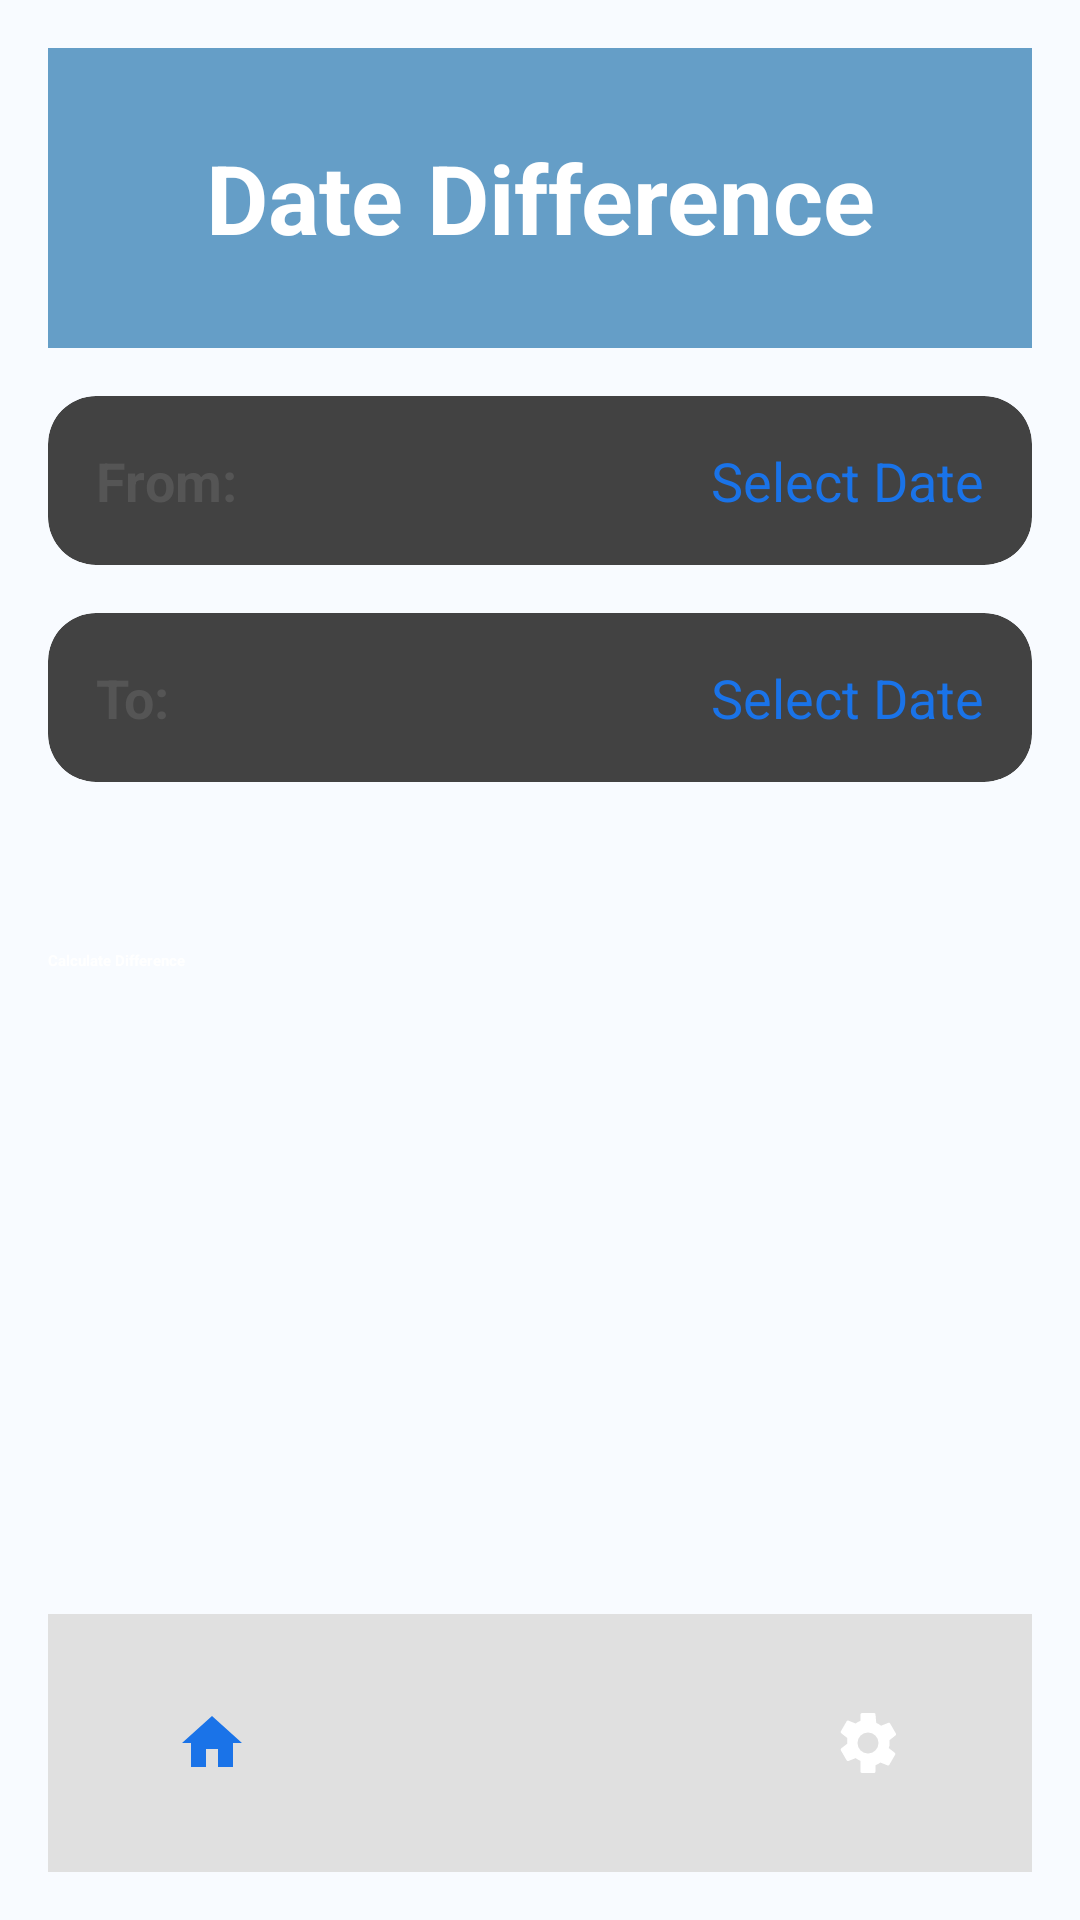

Icon click points for this 1080 × 1920 phone screenshot, format (x=x, y=y):
Home: (x=212, y=1741)
Settings: (x=868, y=1743)
